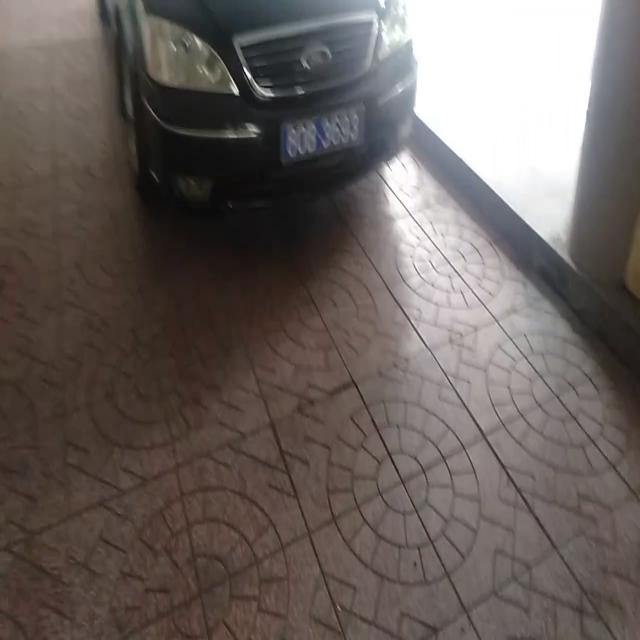bien_xanh: (281, 110, 364, 157)
